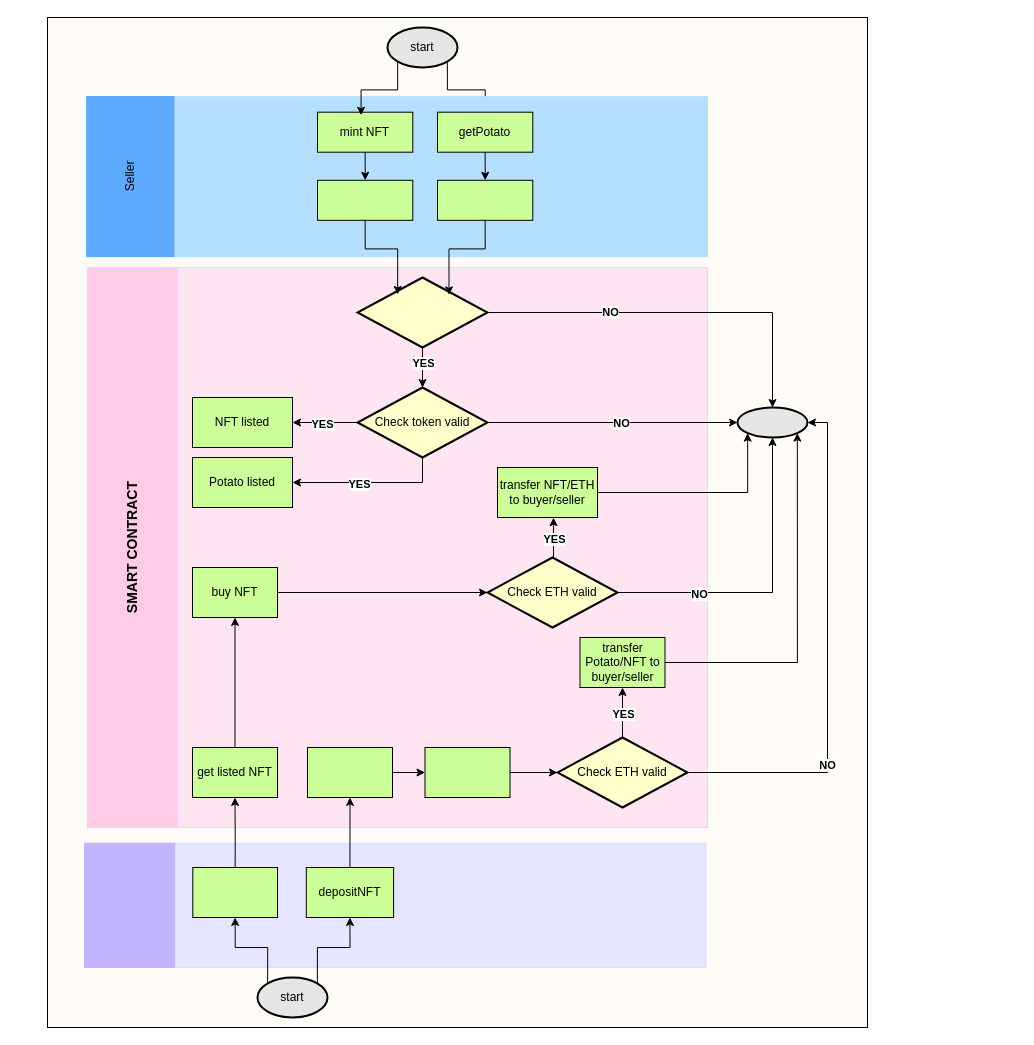
This 1034x1045 diagram has some shape labels left out. The centre of each missing label's shape, as x and y in pixels:
buy Potato: point 467,772
BUYER: point 129,905
Check token owner: point 422,312
deposit ETH: point 235,892
deposit NFT: point 364,199
deposit Potato: point 484,199
END: point 772,422
get listed Potato: point 349,772
